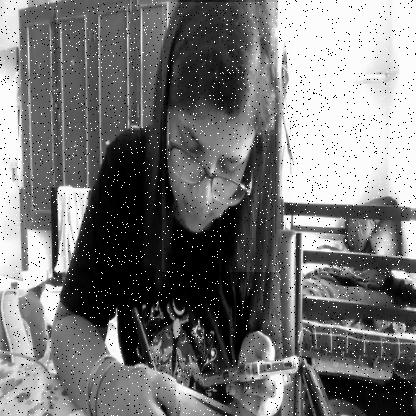Normal: (162, 2, 275, 272)
